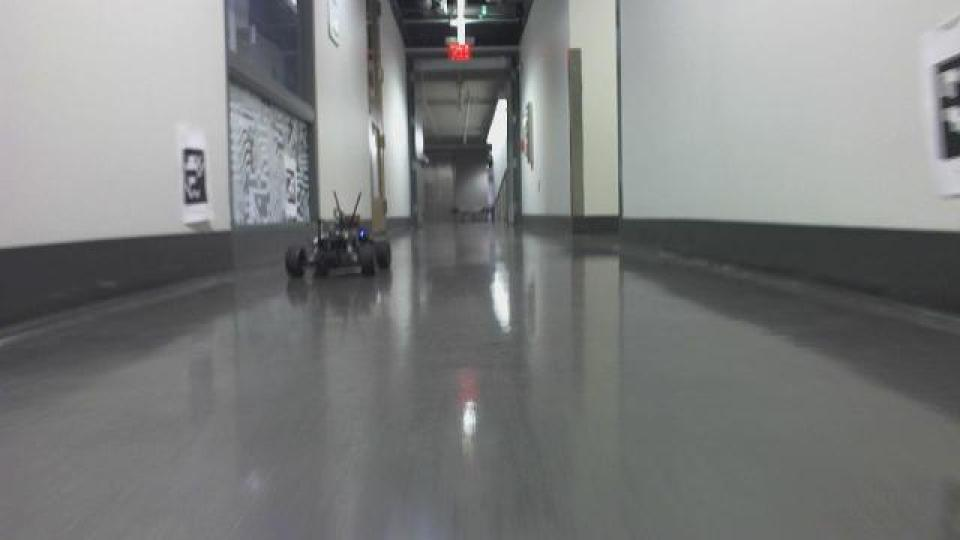car: (281, 187, 393, 283)
